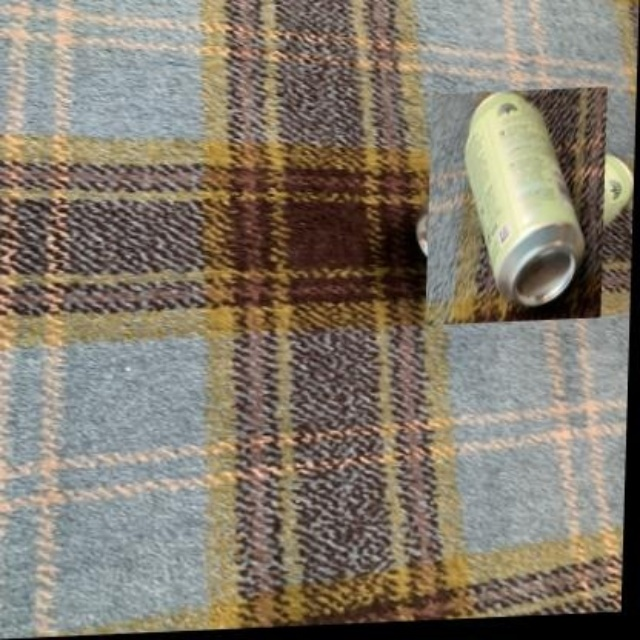trash: (465, 92, 583, 305)
